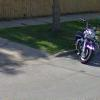Motorcycle: (70, 18, 100, 71)
